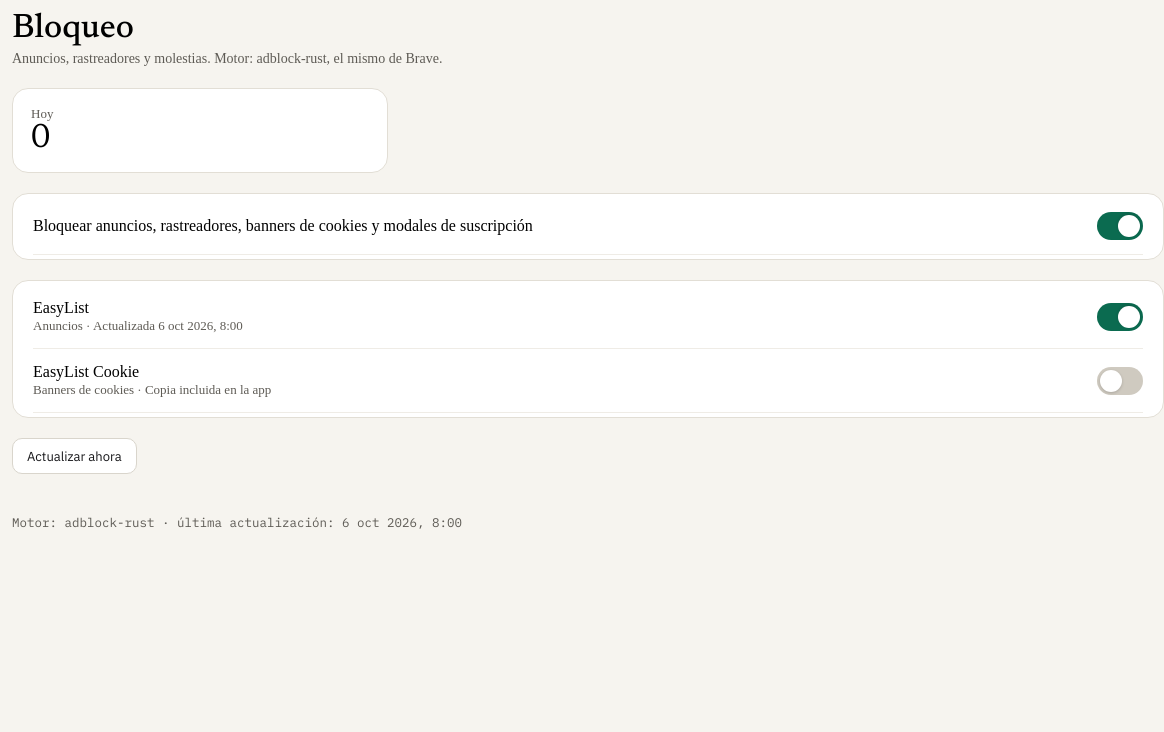
Test: BlockingSection › lists filter lists with category and source, toggles and refreshes
Expected: the text "EasyList" is shown, x1=33 y1=299 x2=89 y2=316
Expected: the text "Banners de cookies" is shown, x1=33 y1=382 x2=134 y2=397
Click the switch named "EasyList Cookie" in the row of "Copia incluida en la app" at (1120, 380), box x1=1097 y1=366 x2=1143 y2=394
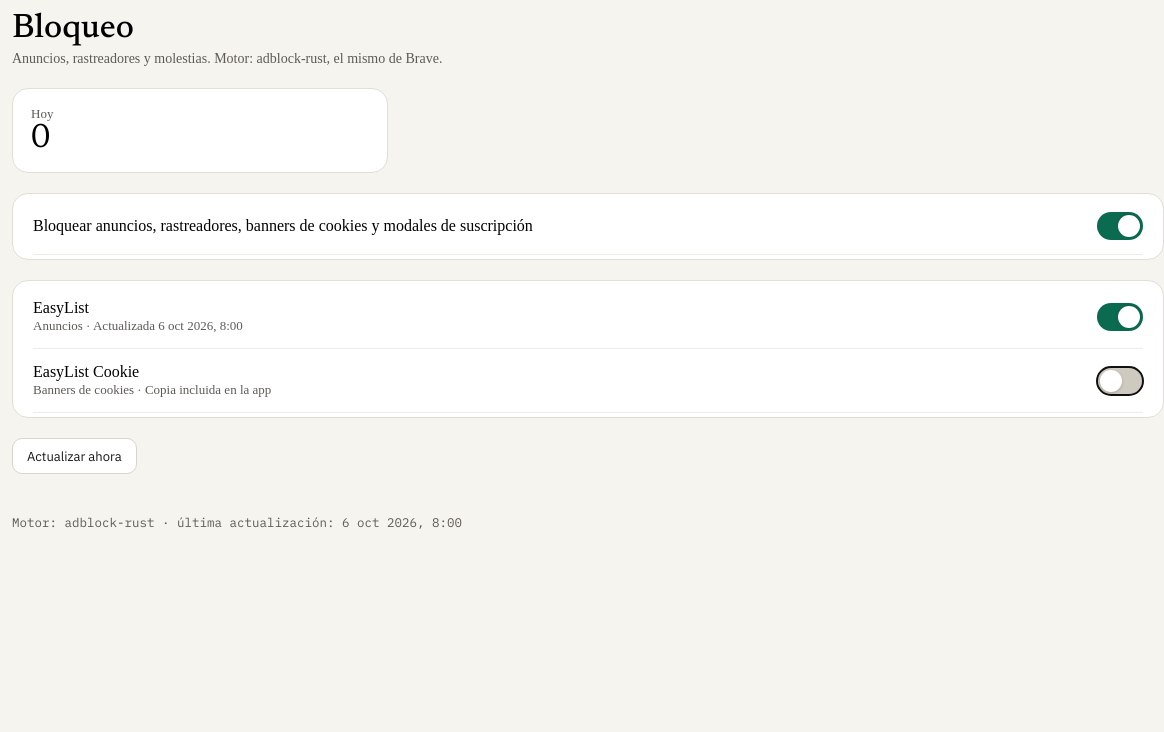
Click the 1st switch named "Bloquear anuncios, rastreadores" at (1120, 226), box x1=1097 y1=212 x2=1143 y2=240
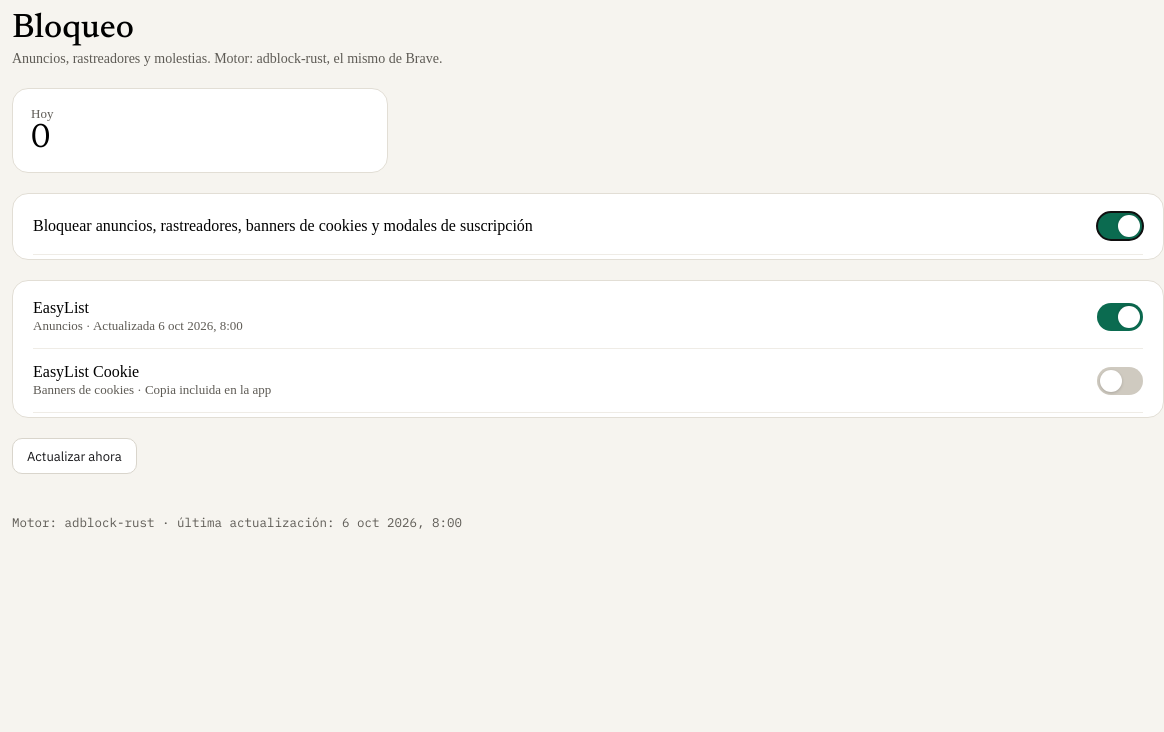
Click the button "Actualizar ahora" at (74, 456), box x1=12 y1=438 x2=137 y2=474
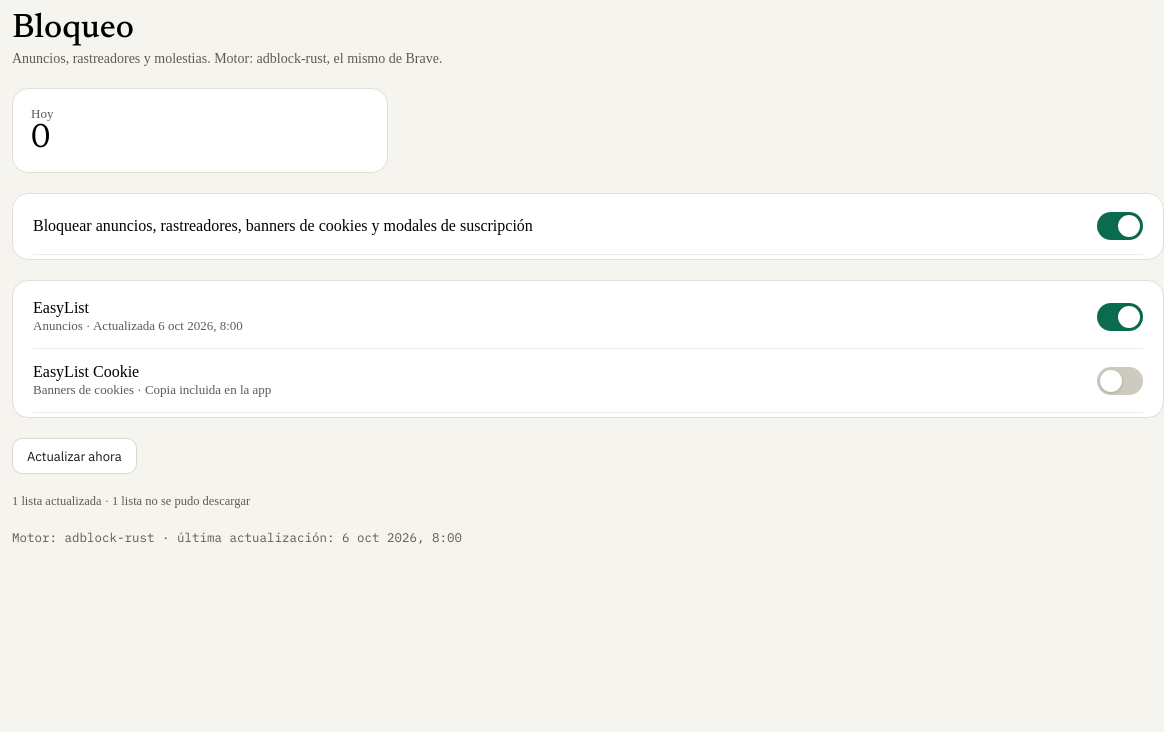
Expected: the message shows "1 lista actualizada", x1=12 y1=494 x2=250 y2=508
Expected: the message shows "1 lista no se pudo descargar", x1=12 y1=494 x2=250 y2=508
